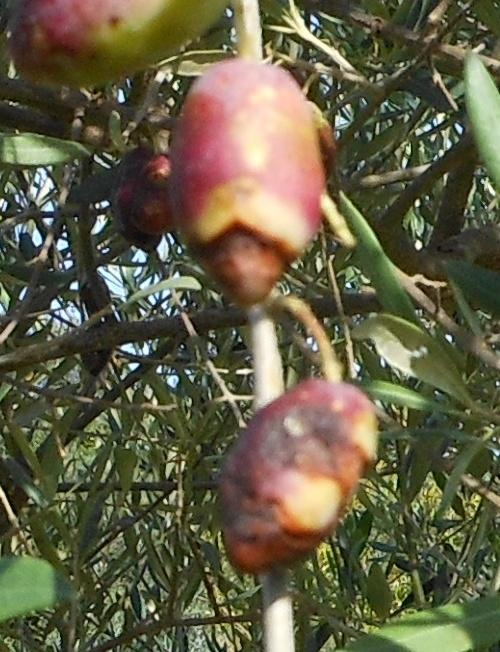Anthracnose: (160, 61, 331, 309), (217, 374, 383, 578)
